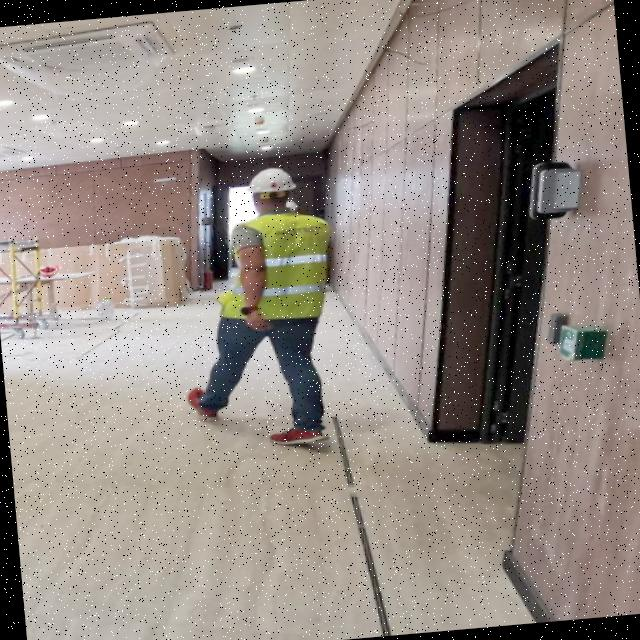Helmet: (248, 166, 302, 208)
Jacket: (225, 199, 343, 322)
